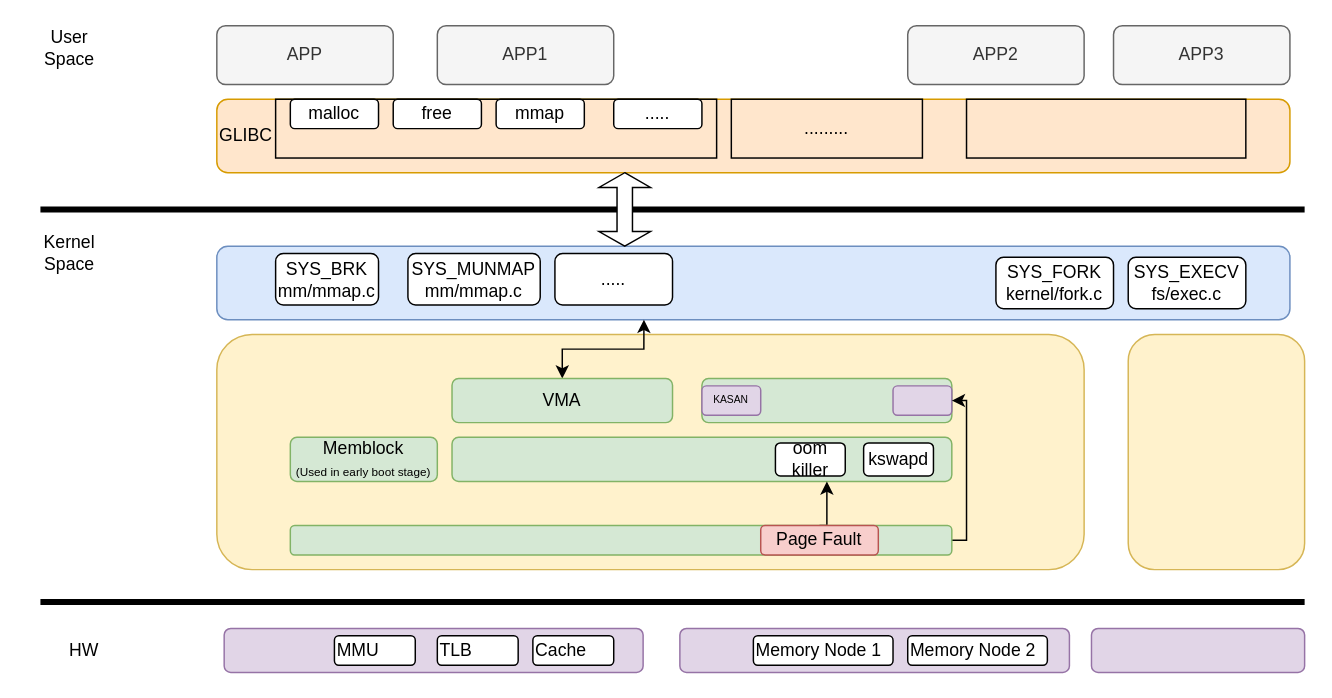
Some shapes in this 1332 by 698 pixel diagram are drawn without their labels. The box of each missing label's shape, as (x1, y1, x2, y2) in pixels:
Buddy System: (451, 436, 952, 481)
CPU: (223, 627, 643, 673)
GLIBC Memory Management: (274, 98, 717, 158)
GLIBC Process Management: (965, 98, 1246, 158)
I/O Devices(PCIe/etc.): (1090, 627, 1305, 673)
Kernel Sub Systems and Kernel Modules: (1127, 333, 1305, 570)
KFENCE: (892, 384, 952, 415)
Memory Sub System: (215, 333, 1084, 570)
Page Table Management: (289, 524, 952, 555)
Physical Memory: (678, 627, 1069, 673)
SLAB Series: (700, 377, 952, 423)
SYSTEM CALL: (598, 171, 650, 246)
